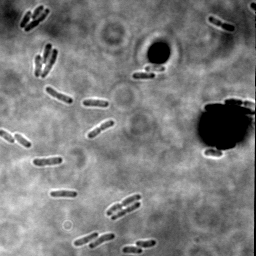Dividing: (105, 194, 142, 217), (22, 8, 51, 34), (110, 201, 141, 222), (43, 86, 74, 106), (86, 119, 115, 140), (41, 48, 59, 80), (206, 16, 237, 34), (32, 156, 63, 167)
Rod: (88, 232, 116, 249), (72, 231, 99, 248), (48, 189, 79, 199), (13, 132, 31, 149), (40, 42, 53, 65), (82, 98, 109, 109), (17, 10, 32, 29), (29, 4, 44, 21), (1, 127, 15, 145), (33, 54, 43, 78), (130, 72, 156, 81), (135, 239, 158, 249), (143, 64, 166, 74), (204, 149, 223, 160), (121, 246, 144, 254)
